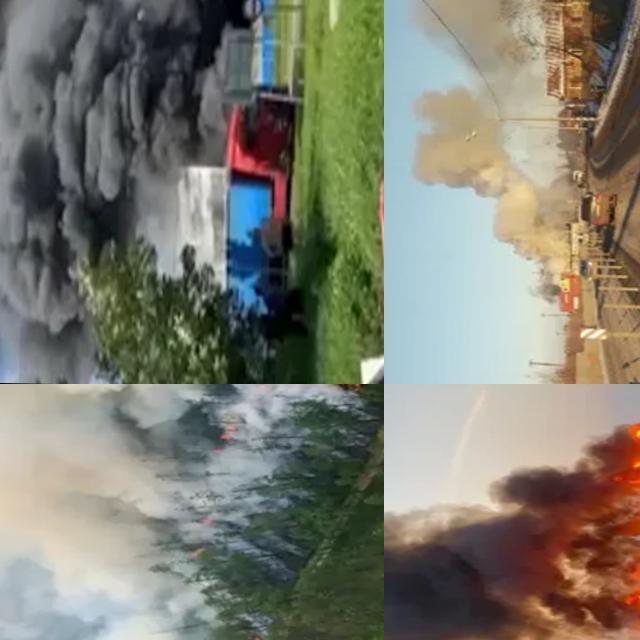smoke: (0, 0, 251, 384), (0, 384, 303, 640), (384, 416, 640, 640), (409, 80, 576, 267), (412, 0, 548, 82)
